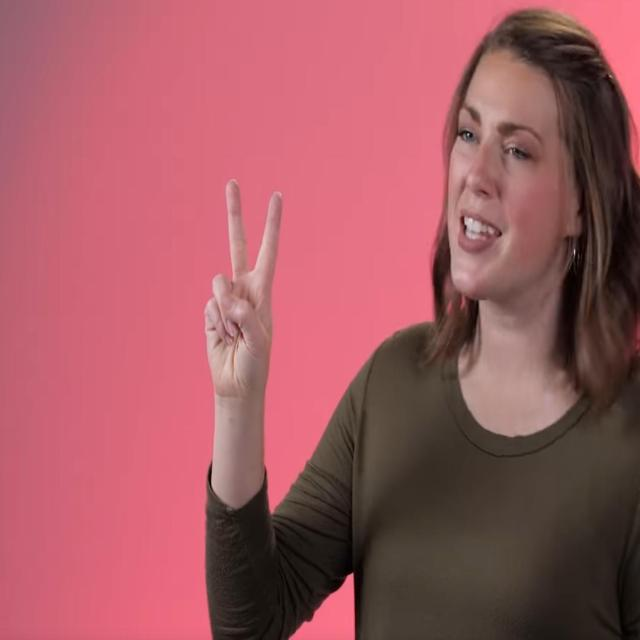V: (200, 178, 285, 394)
